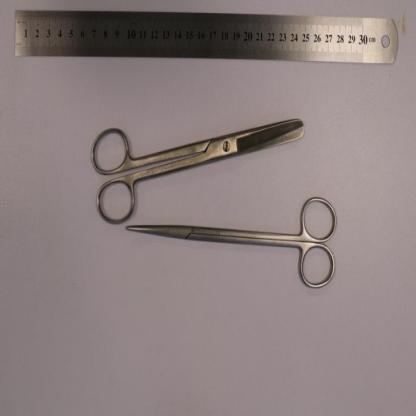7 Metzenbaum Scissors: (126, 194, 338, 292)
Dressing Scissors: (90, 119, 304, 226)
